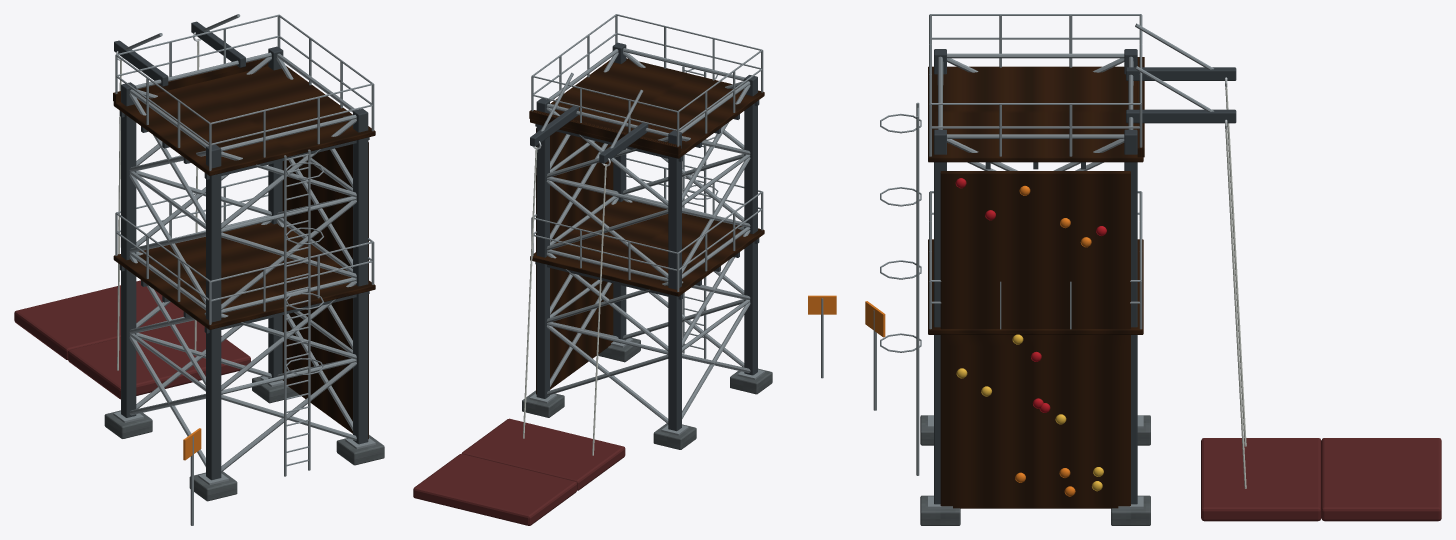
The model's file is fac_rappel_tower.glb.
3 views of the same model, side by side, from view 1: azimuth 30°, elevation 25°; view 2: azimuth 150°, elevation 25°; view 3: azimuth 270°, elevation 25° (orthographic). The views are drawn at different scales.
Visible parts, largest first — view 1: FAC_RAPPEL_TOWER; view 2: FAC_RAPPEL_TOWER; view 3: FAC_RAPPEL_TOWER.
Boxes of the visible parts, x1,y1,x2,y2 form: FAC_RAPPEL_TOWER: [14, 14, 384, 525]; FAC_RAPPEL_TOWER: [413, 14, 836, 525]; FAC_RAPPEL_TOWER: [865, 14, 1441, 525].
Bounding box in the file's own units: 5.82 × 9.53 × 11.5.
Materials: 10 (2 with a texture image).
